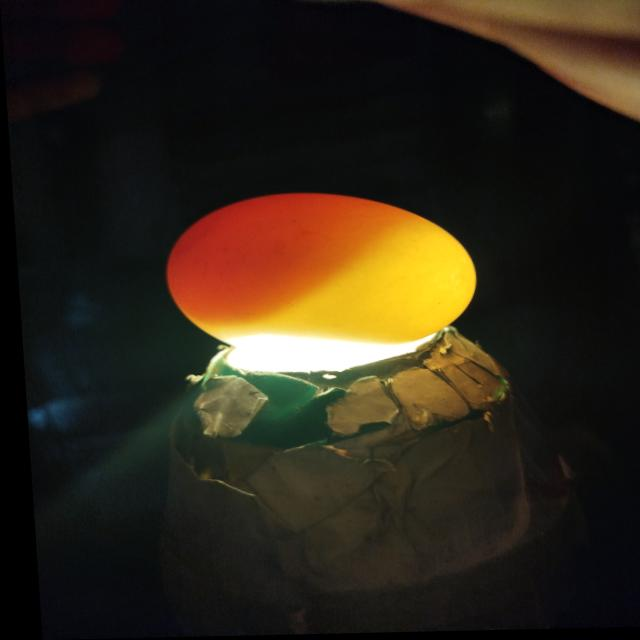Gema Quebrada: (162, 195, 411, 329)
